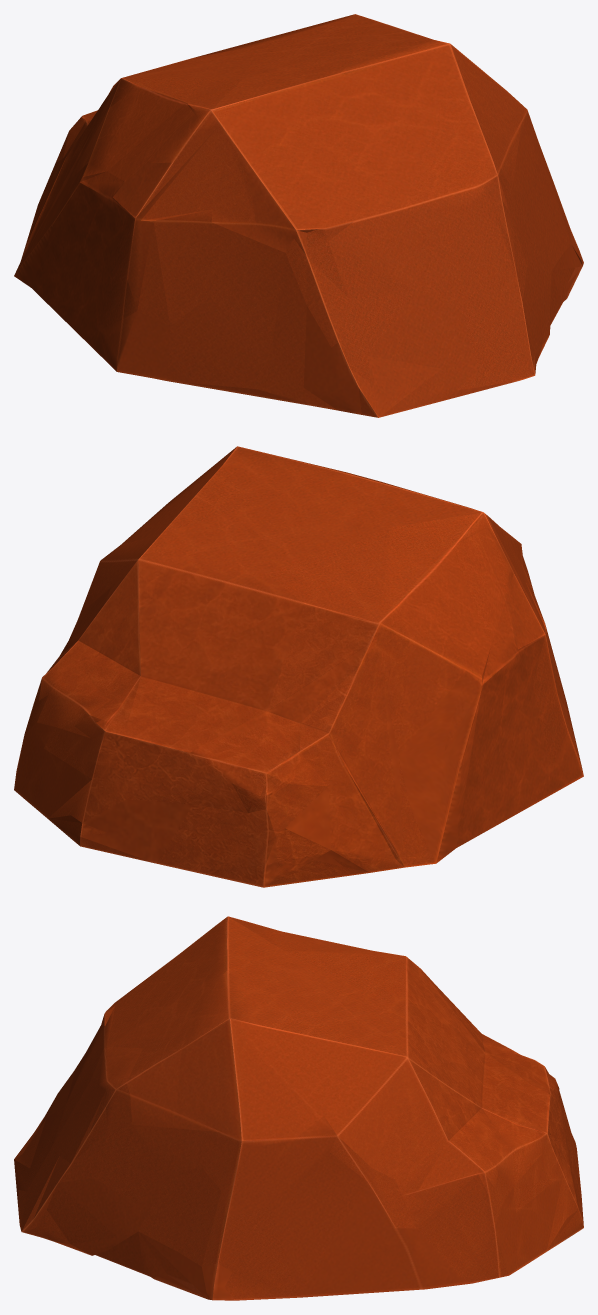
File: desert_small_4.glb
The picture shows the model from 3 angles, top to bottom: view 1: azimuth 30°, elevation 25°; view 2: azimuth 150°, elevation 25°; view 3: azimuth 270°, elevation 25°; orthographic projection. The views are drawn at different scales.
Parts seen in each view (by area): view 1: output_unwrapped; view 2: output_unwrapped; view 3: output_unwrapped.
Boxes of the visible parts, x1=… form: output_unwrapped: x1=14, y1=14, x2=583, y2=417; output_unwrapped: x1=14, y1=446, x2=583, y2=887; output_unwrapped: x1=14, y1=916, x2=583, y2=1300.
Bounding box in the file's own units: 1.65 × 0.8328 × 1.9.
Materials: 1 (1 with a texture image).
